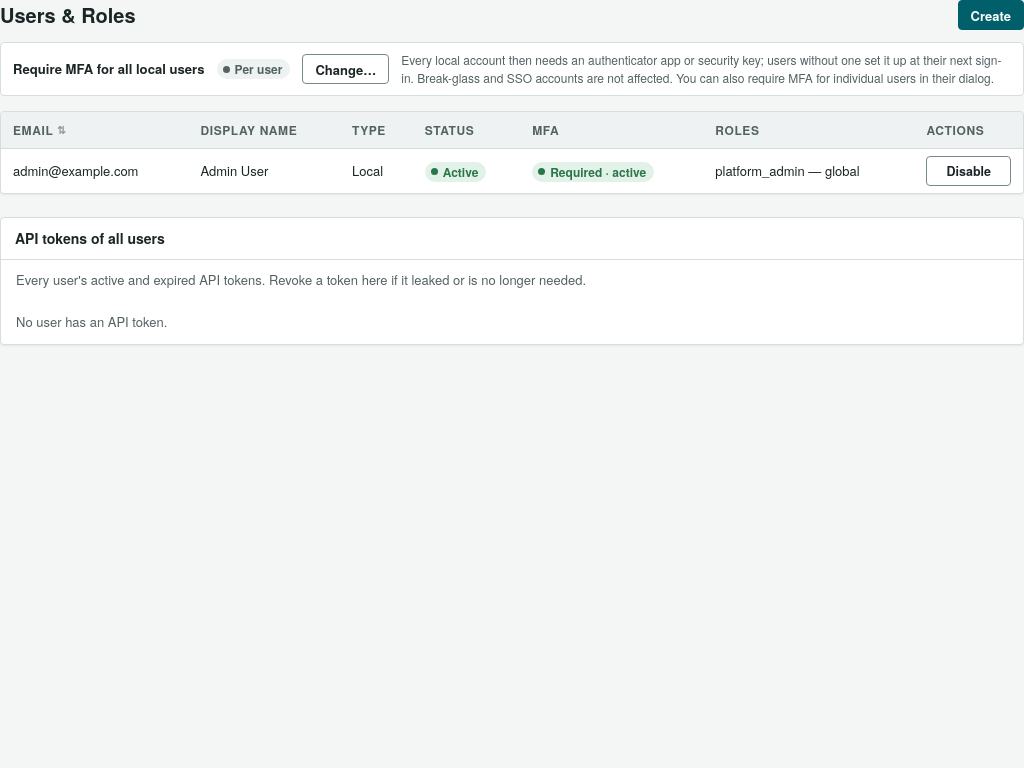
Test case: UsersPage — set password › resets a user's MFA after confirmation
Click the text "admin@example.com" at (95, 171), box [1,148,188,193]
(page scrolled)
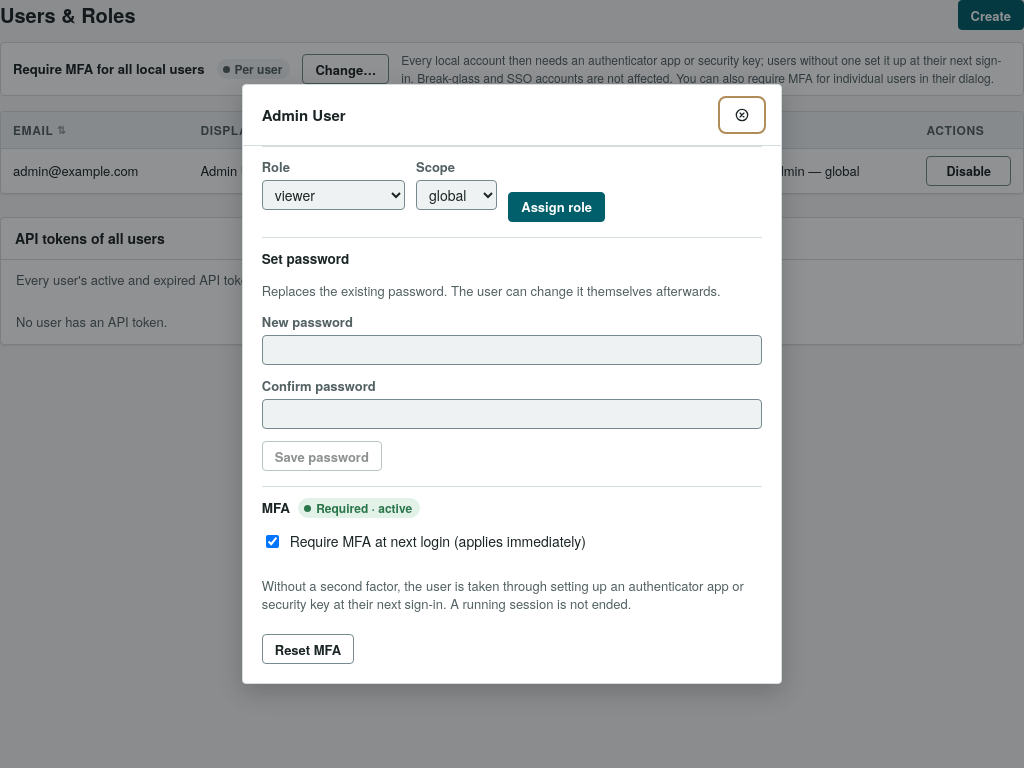
Click the button "Reset MFA" at (308, 650), box [262,634,354,664]
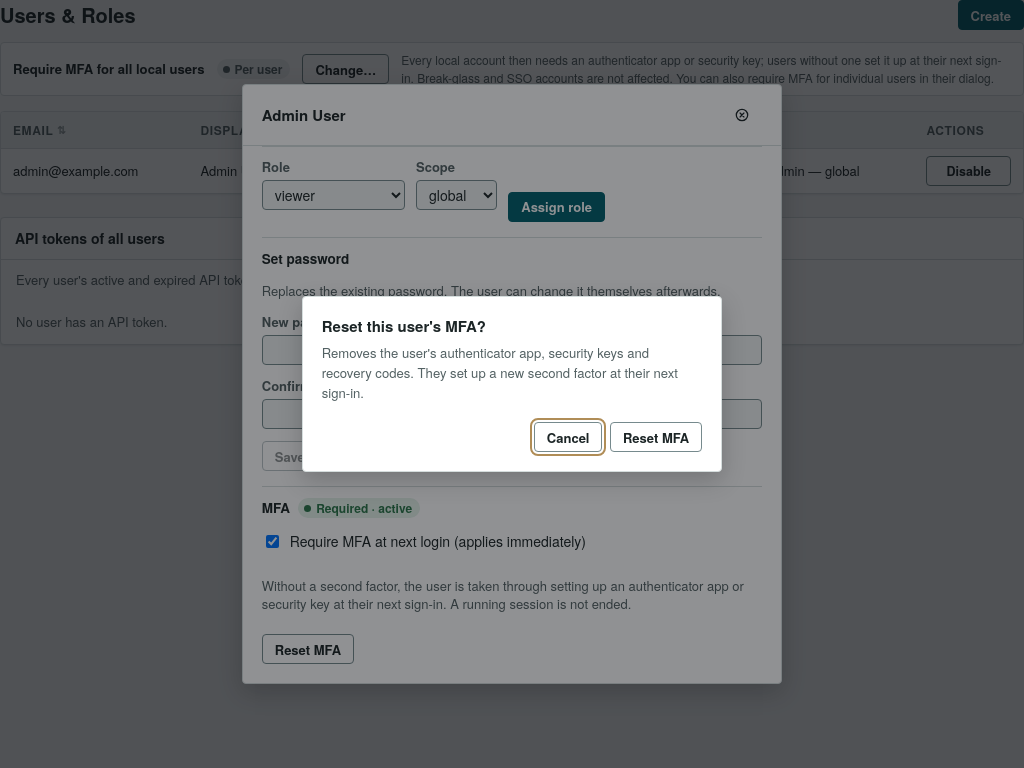
Click the button "Reset MFA" below "Reset this user's MFA?" at (656, 437), box [610,422,702,452]
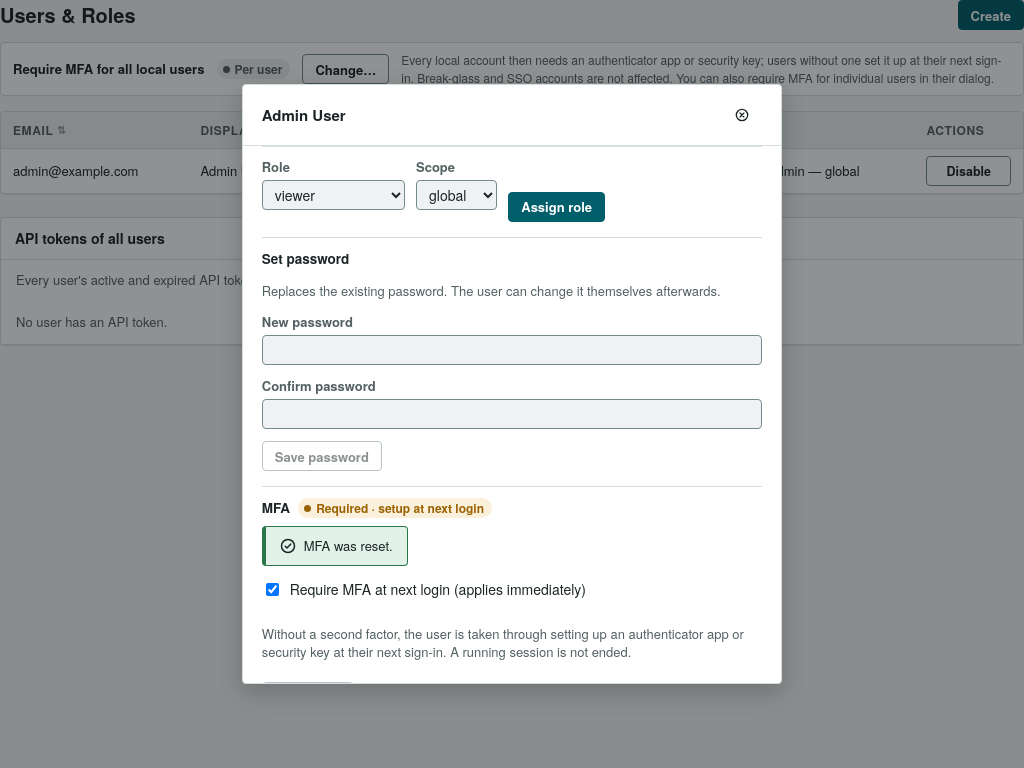
Now the text "MFA was reset." is shown, box [304,538,393,556]
